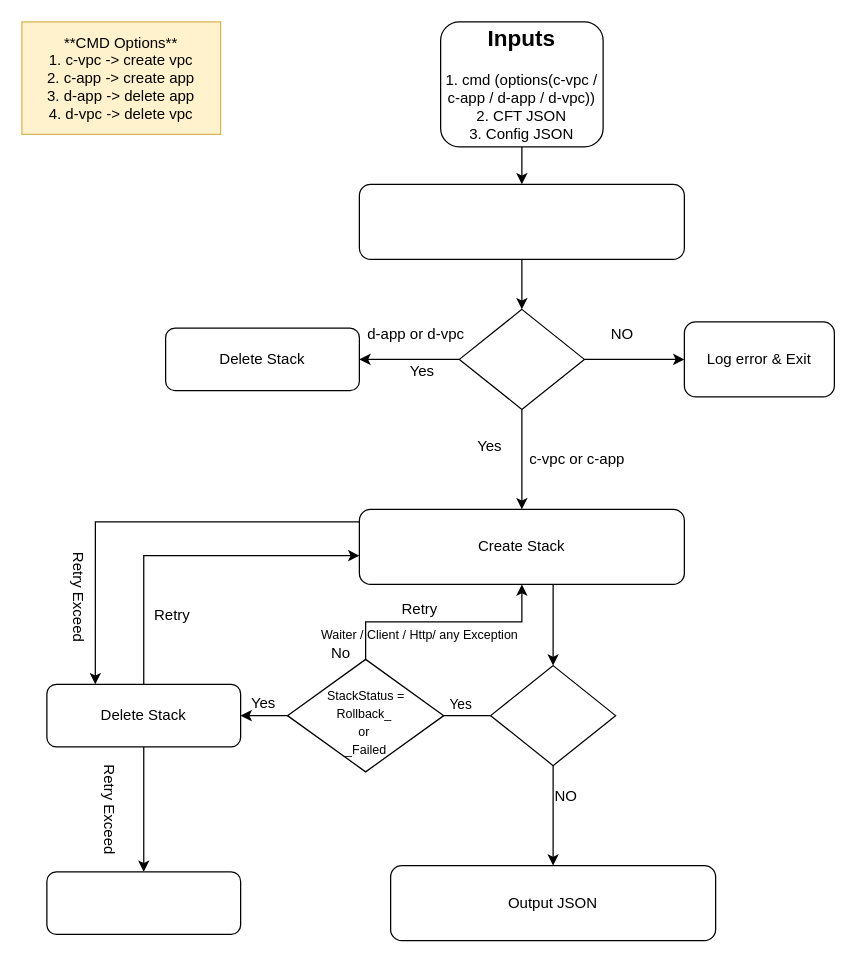
This 856x963 diagram has some shape labels left out. Each missing label, with the box of its shape:
Failure: (489, 664, 616, 766)
Log Exception details: (46, 871, 241, 934)
Main: (358, 183, 684, 259)
Validate CFT: (458, 308, 584, 409)
